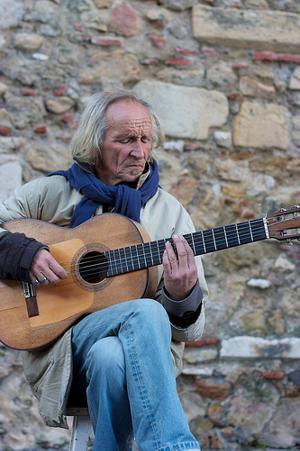person: (2, 86, 209, 449)
